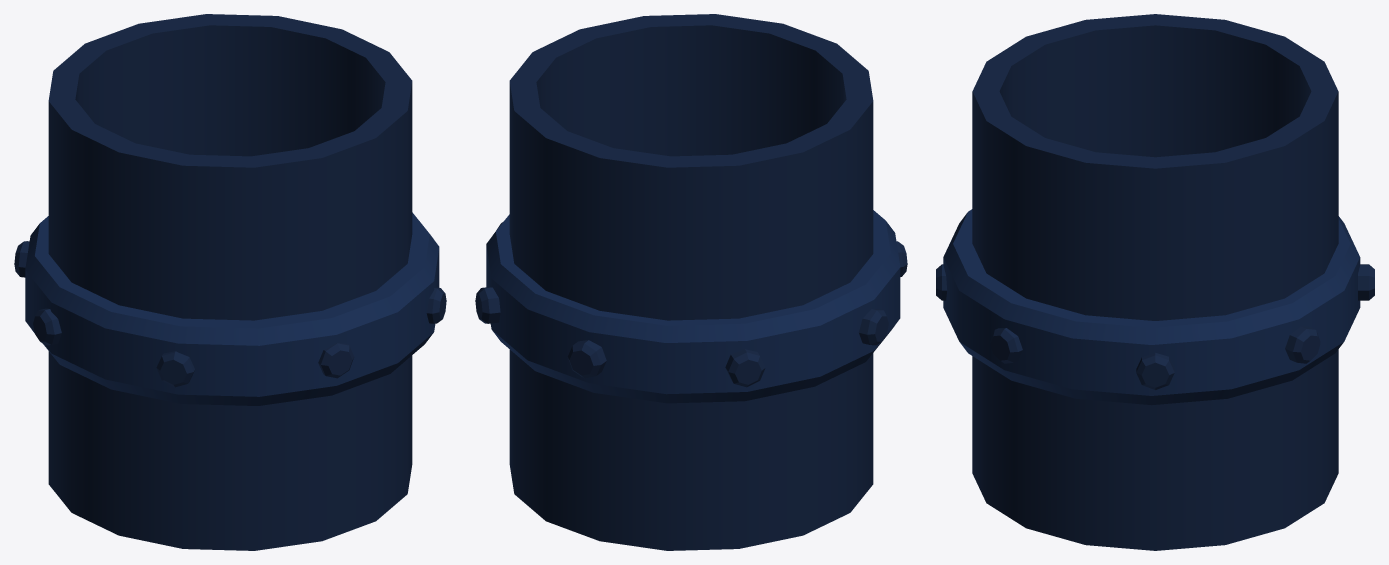
Rendered from Pipe_Straight.fbx.
3 renders of one model, left to right at view 1: azimuth 30°, elevation 25°; view 2: azimuth 150°, elevation 25°; view 3: azimuth 270°, elevation 25°, orthographic.
Parts seen in each view (by area): view 1: Pipe_Straight; view 2: Pipe_Straight; view 3: Pipe_Straight.
Part boxes in pixels (x1,y1,x2,y2): Pipe_Straight: (14, 14, 446, 550); Pipe_Straight: (475, 14, 907, 550); Pipe_Straight: (936, 14, 1374, 550).
Size of the model in its own units: 208 by 200 by 208.
